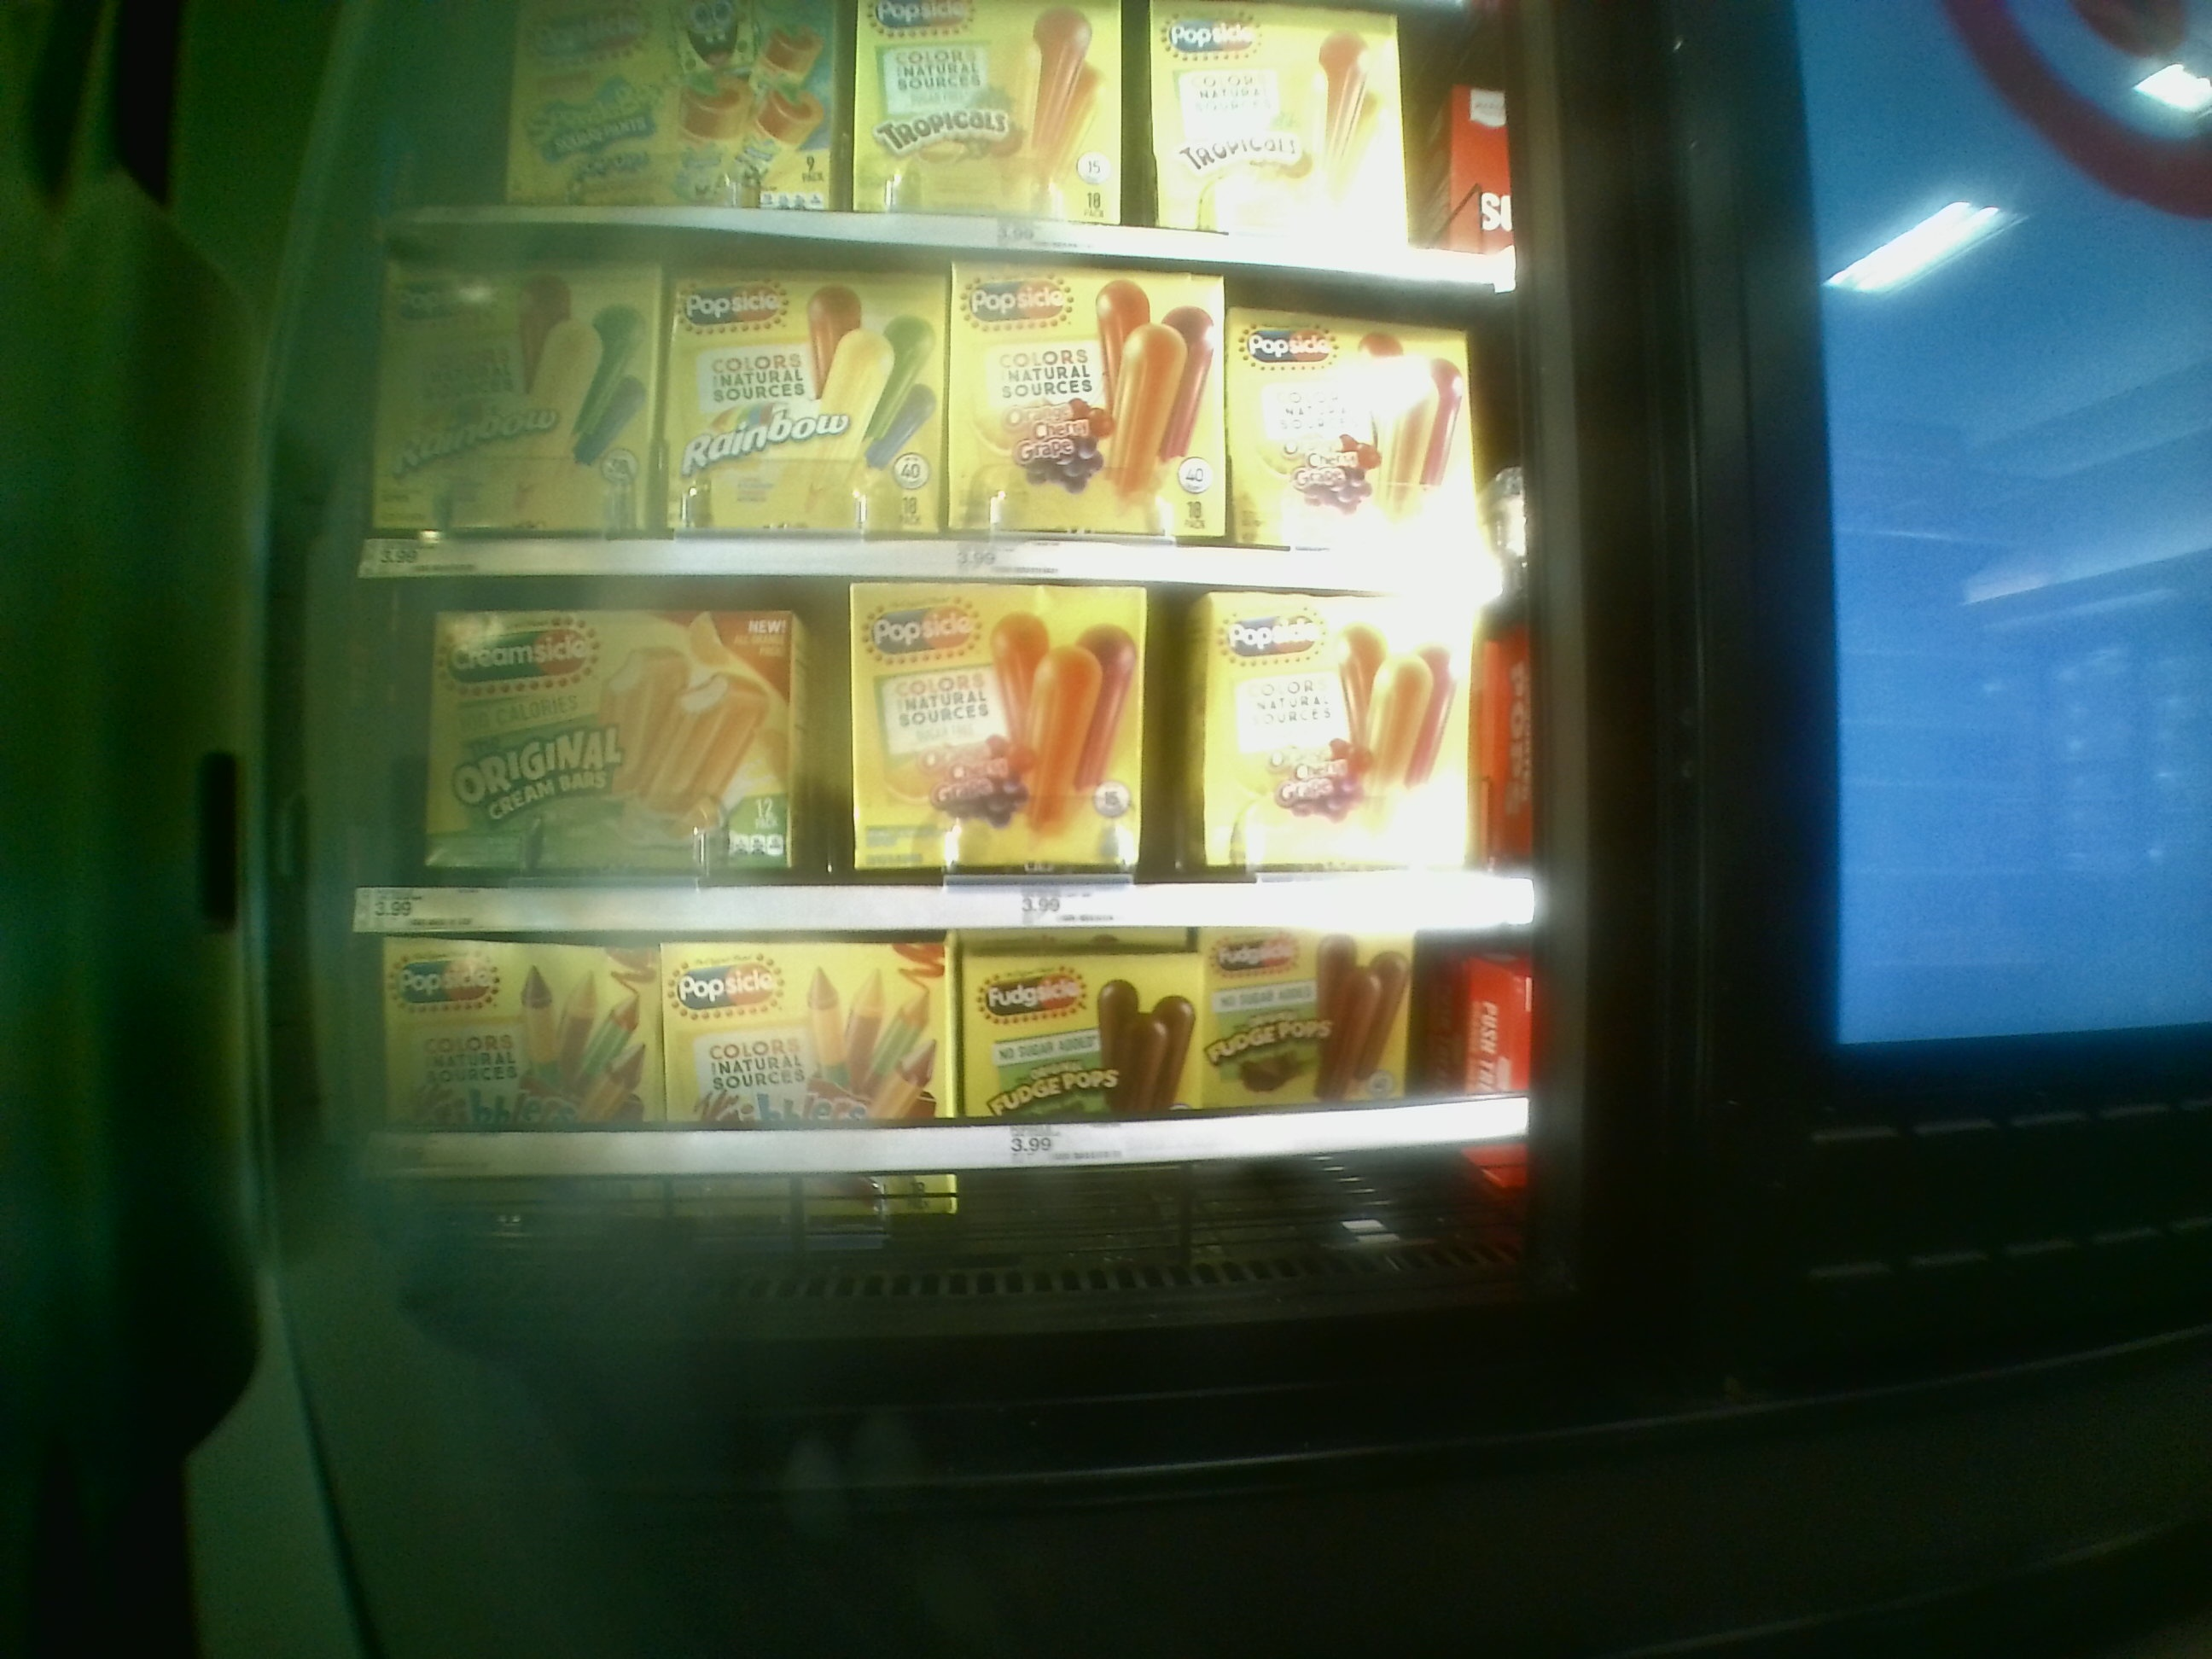shelf: (361, 913, 1552, 1263), (355, 584, 1547, 913), (348, 265, 1533, 589)
